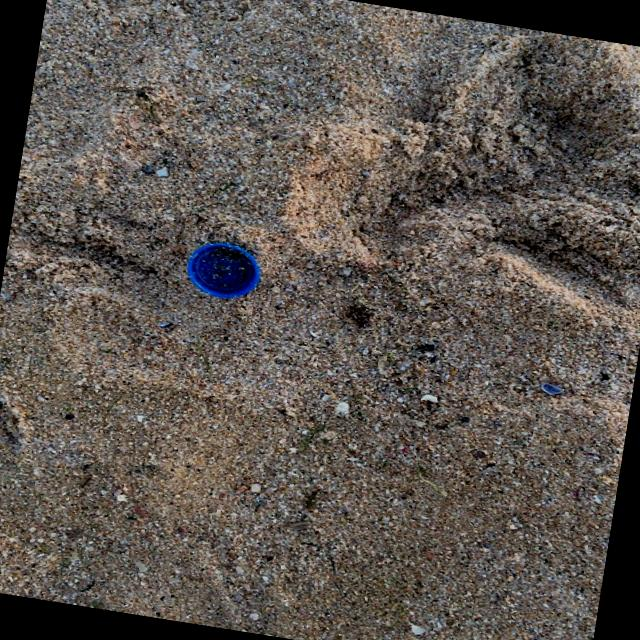Trash: (183, 238, 263, 304)
